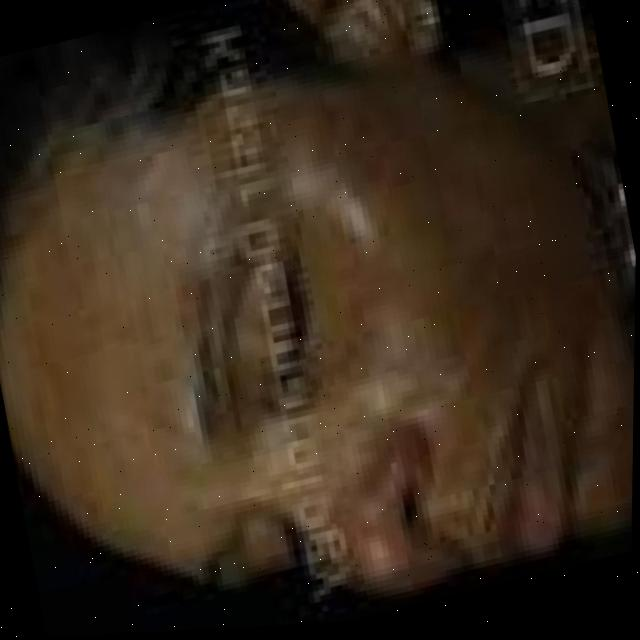Melasma: (293, 61, 572, 422)
